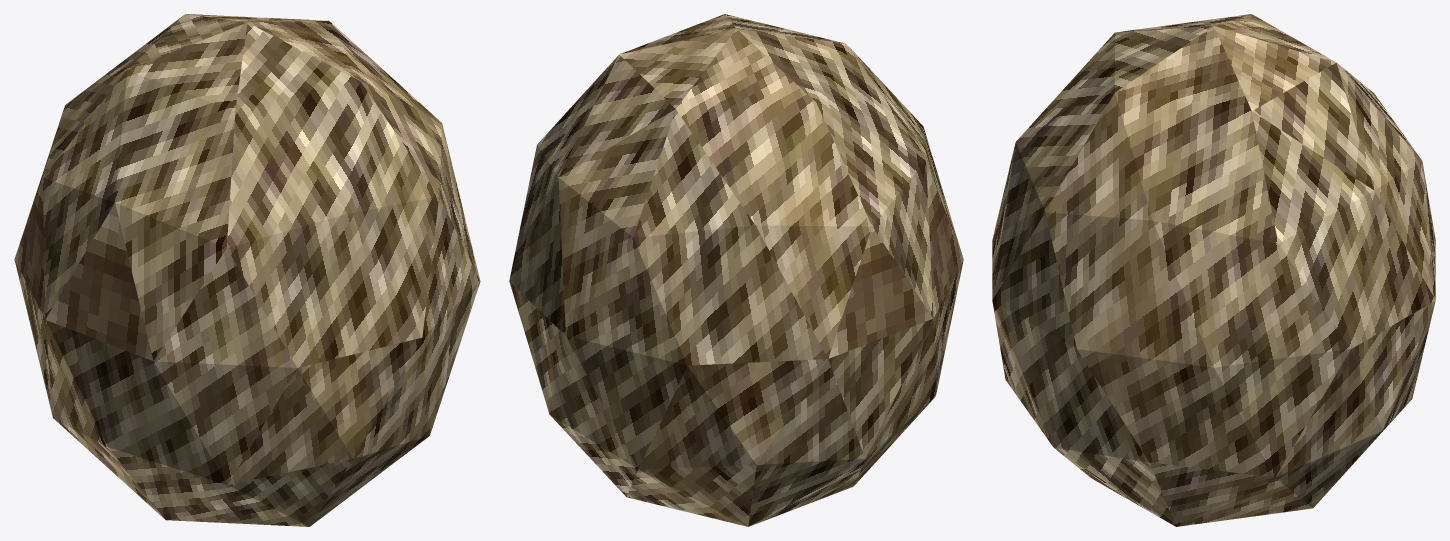
Rendered from stranger.glb.
The picture shows the model from 3 angles, left to right: view 1: azimuth 30°, elevation 25°; view 2: azimuth 150°, elevation 25°; view 3: azimuth 270°, elevation 25°; orthographic projection. The views are drawn at different scales.
Visible parts, largest first — view 1: Iкосфера.002; view 2: Iкосфера.002; view 3: Iкосфера.002.
Part boxes in pixels (<box>): Iкосфера.002: <box>14,14,480,526</box>; Iкосфера.002: <box>509,14,963,526</box>; Iкосфера.002: <box>992,14,1435,526</box>.
Size of the model in its own units: 0.7125 by 0.8356 by 0.687.
1 material, 1 textured.
